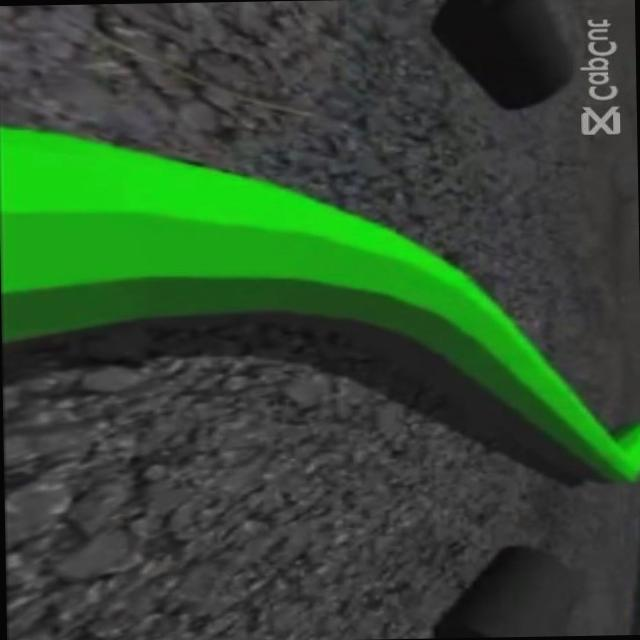gas: (0, 113, 598, 459)
